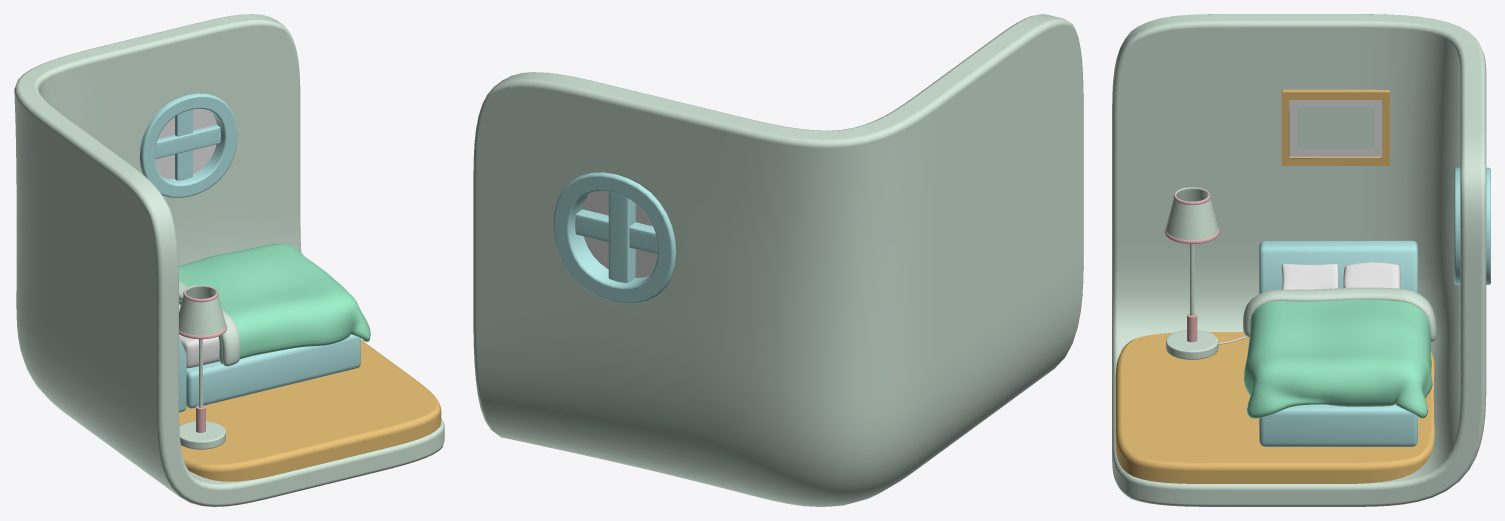
The model's file is 20240228_154917_tests.fbx.
3 renders of one model, left to right at view 1: azimuth 30°, elevation 25°; view 2: azimuth 150°, elevation 25°; view 3: azimuth 270°, elevation 25°, orthographic. The views are drawn at different scales.
Parts seen in each view (by area): view 1: Cube, Cube.001, 平面, 立方体.001, Cube.002, 円柱.001, 円柱, 平面.002, 立方体.003, 立方体.007, 平面.001, 立方体.005 (+1 smaller); view 2: Cube, Cube.002, 立方体.007, 平面.002, 立方体.003; view 3: Cube, Cube.001, 平面, 立方体.008, 立方体.001, 立方体.002, 平面.001, 円柱.001, 円柱, 立方体.004, 立方体.006, Cube.002.
Boxes of the visible parts, x1,y1,x2,y2 form: Cube: (14, 14, 444, 506); Cube.001: (179, 340, 441, 481); 平面: (178, 243, 370, 364); 立方体.001: (186, 334, 360, 408); Cube.002: (139, 93, 237, 197); 円柱.001: (179, 285, 227, 339); 円柱: (179, 339, 225, 449); 平面.002: (155, 108, 216, 178); 立方体.003: (155, 125, 220, 158); 立方体.007: (175, 109, 192, 180); 平面.001: (179, 280, 240, 366); 立方体.005: (179, 304, 219, 368); Cube: (473, 14, 1083, 506); Cube.002: (553, 172, 676, 303); 立方体.007: (608, 192, 635, 283); 平面.002: (582, 191, 657, 277); 立方体.003: (575, 209, 657, 254); Cube: (1112, 14, 1486, 506); Cube.001: (1115, 332, 1434, 483); 平面: (1244, 299, 1432, 418); 立方体.008: (1281, 89, 1389, 165); 立方体.001: (1259, 404, 1417, 446); 立方体.002: (1259, 240, 1417, 293); 平面.001: (1243, 287, 1436, 342); 円柱.001: (1164, 187, 1219, 243); 円柱: (1166, 244, 1218, 359); 立方体.004: (1281, 263, 1338, 289); 立方体.006: (1343, 262, 1400, 288); Cube.002: (1454, 167, 1490, 284).
Size of what is drawn, in the model's own units: 215 by 215 by 218.
